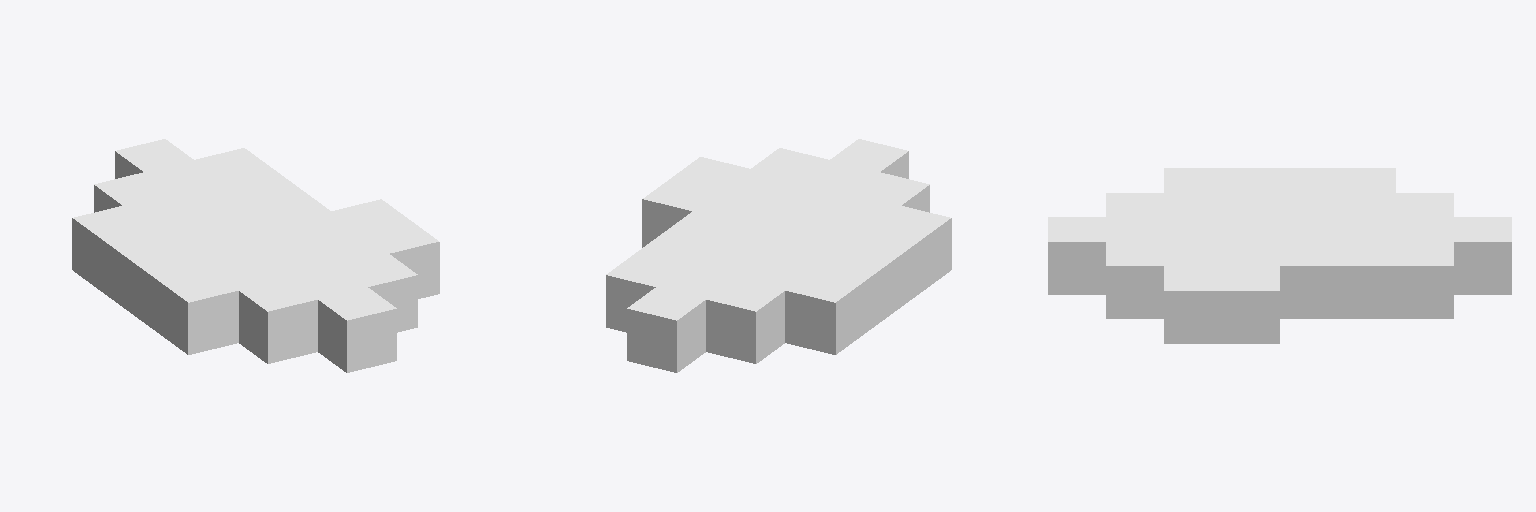
Rendered from Mini_Fire.obj.
3 renders of one model, left to right at view 1: azimuth 30°, elevation 25°; view 2: azimuth 150°, elevation 25°; view 3: azimuth 270°, elevation 25°, orthographic.
Visible parts, largest first — view 1: object 1; view 2: object 1; view 3: object 1.
Boxes of the visible parts, box(x1,y1,x2,y2) form: object 1: box(72, 139, 439, 372); object 1: box(606, 139, 951, 372); object 1: box(1048, 168, 1511, 343).
Size of the model in its own units: 0.5 by 0.1 by 0.8.